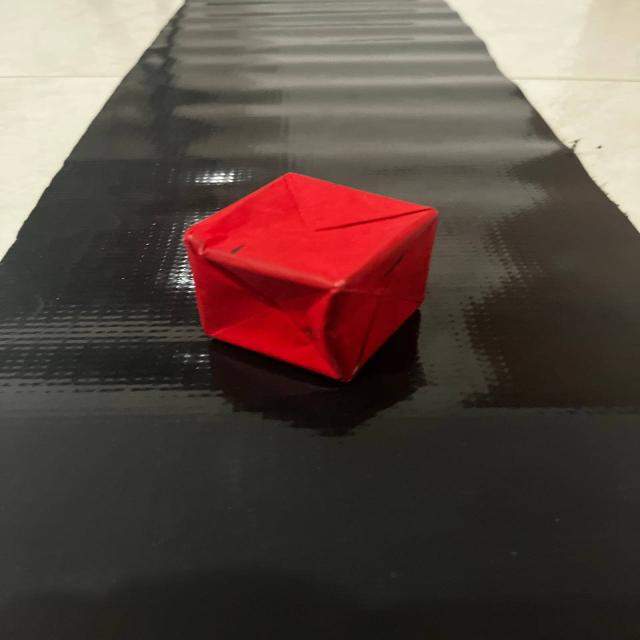Rojo: (170, 163, 462, 392)
